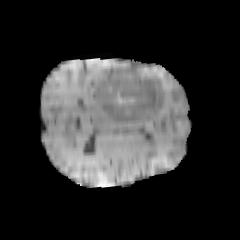glioma: (92, 66, 165, 123)
